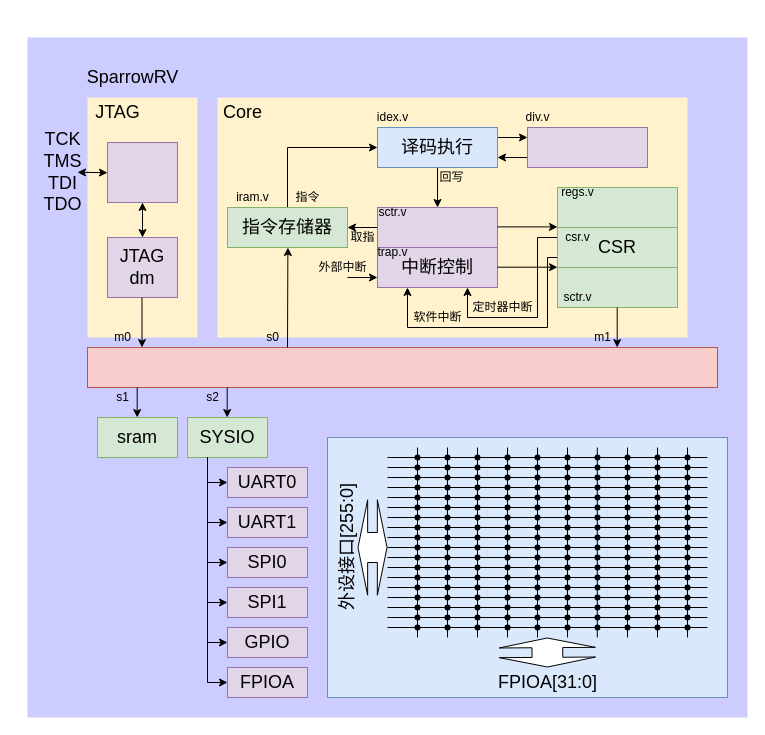
The diagram is 765 pixels wide and 735 high, and some of its shapes have lost their labels. The box of each missing label's shape, as (x1, y1, x2, y2) in pixels:
AXI4-Lite: (556, 266, 678, 308)
AXI4-Lite总线: (86, 346, 718, 388)
JTAG driver: (106, 142, 178, 202)
寄存器组: (556, 186, 678, 228)
系统控制: (376, 206, 498, 248)
除法器: (526, 126, 648, 168)
